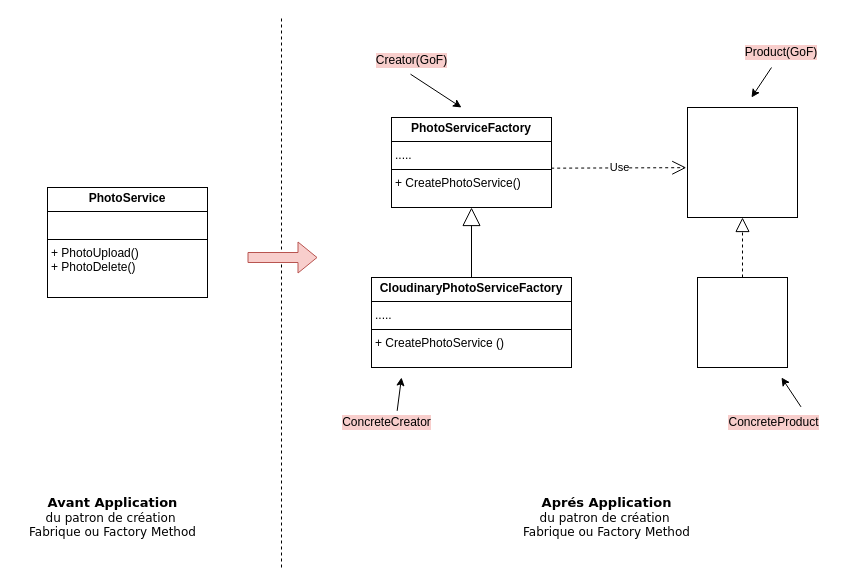
Image size: 845x586. Some labels were removed from this diagram. Each missing label, with the box of its shape:
<<Interface>> IPhotoService ....... + PhotoUpload() + PhotoDelete(): (686, 106, 798, 218)
PhotoService ... ...: (696, 276, 788, 368)
